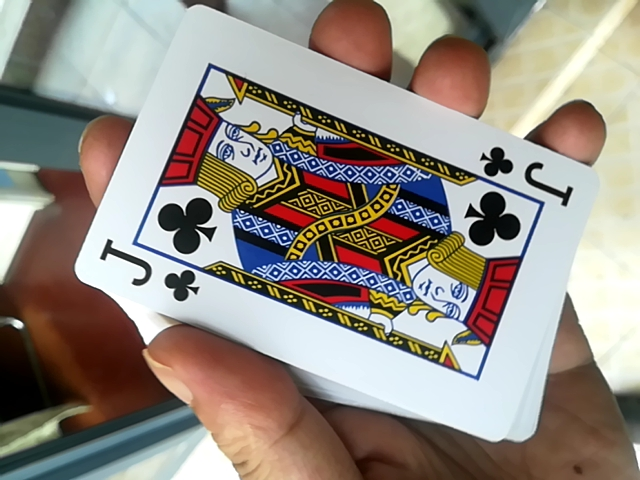mh j: (63, 4, 611, 446)
